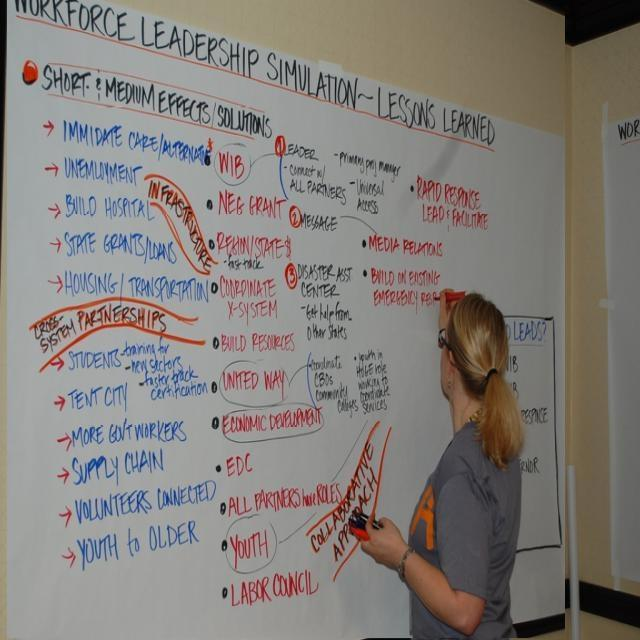Whiteboard: (0, 4, 566, 639)
